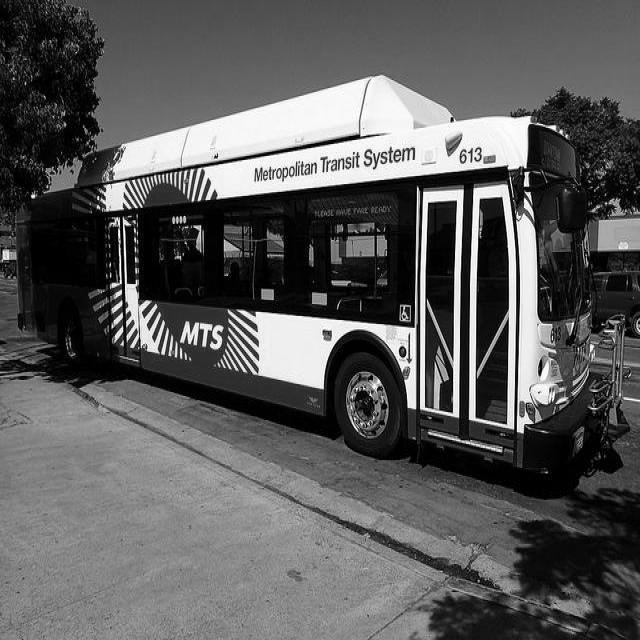vehicle: (18, 75, 626, 482), (591, 271, 639, 340)
